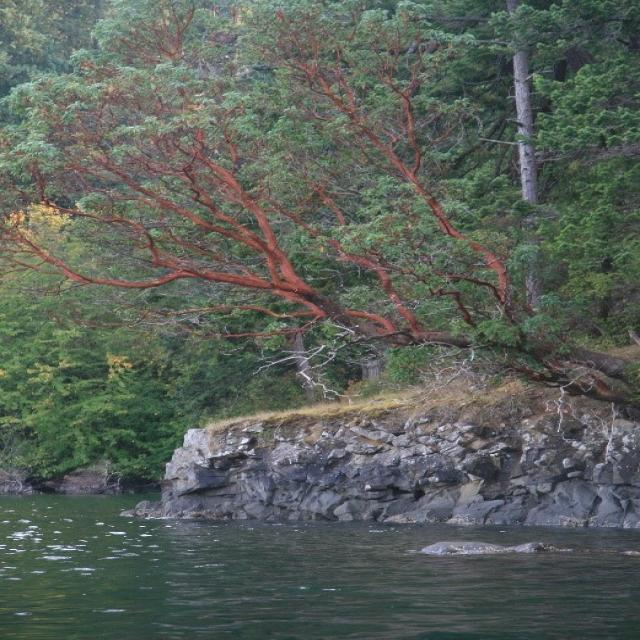Arbutus menziesii: (4, 0, 640, 457)
